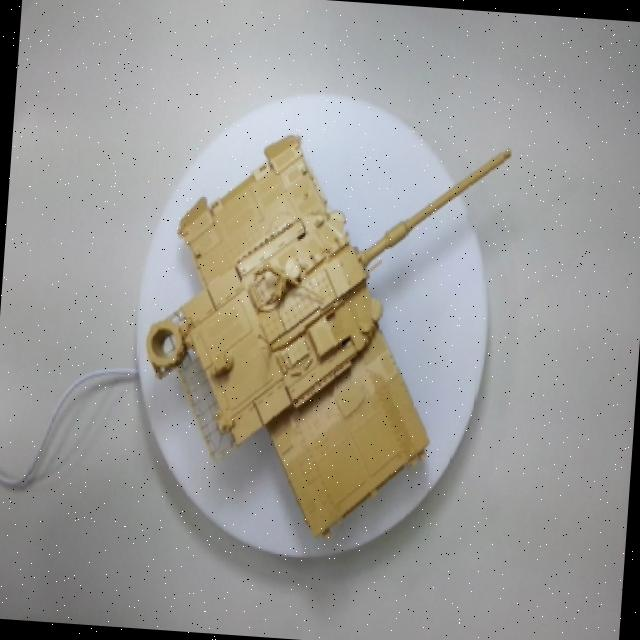korea tank: (115, 92, 550, 571)
